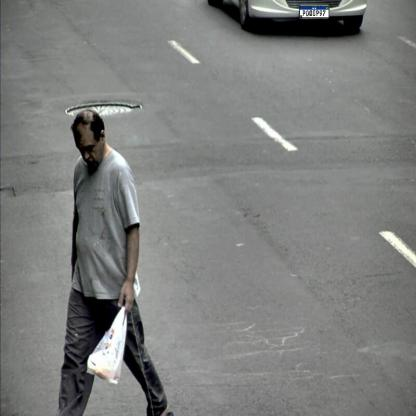PlacaM: (300, 6, 329, 18)
